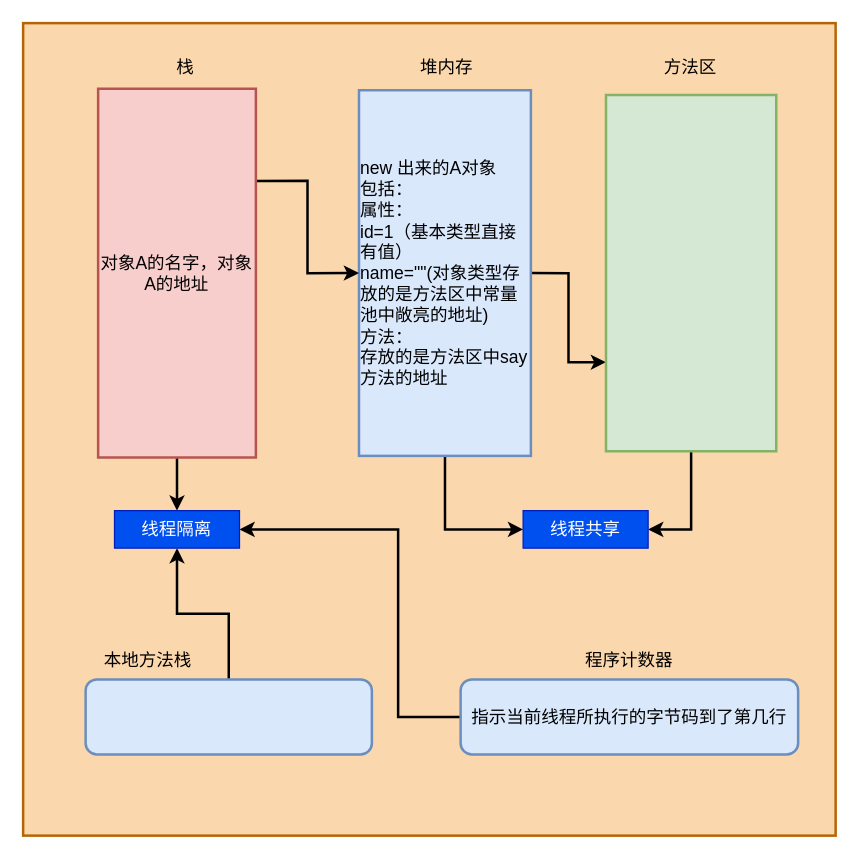
Image size: 858x858. Some labels were removed from this diagram. Here are the shapes that lost their labels. From the top down, the centre of each, then its label:
At (x=690, y=272): "A对象的类信息 包括:A对象的代码 A对象的属性 A对象的方法 静态常量池 static变量".
At (x=228, y=716): "执行系统方法时使用".
